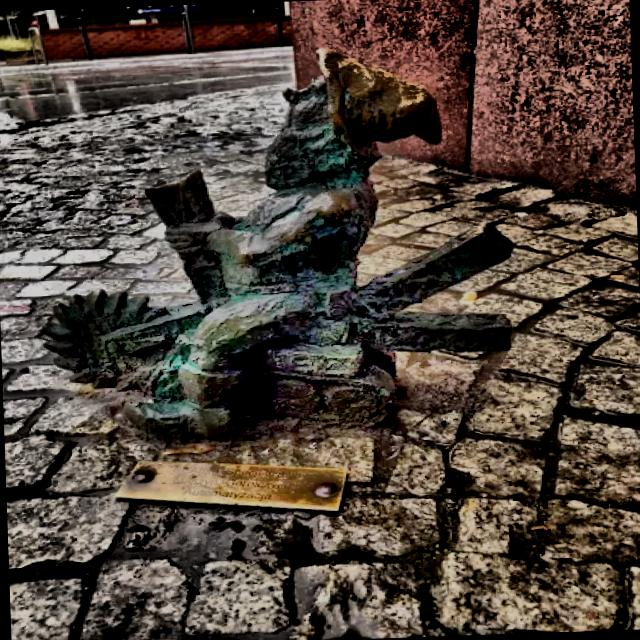Automatek: (44, 50, 511, 438)
